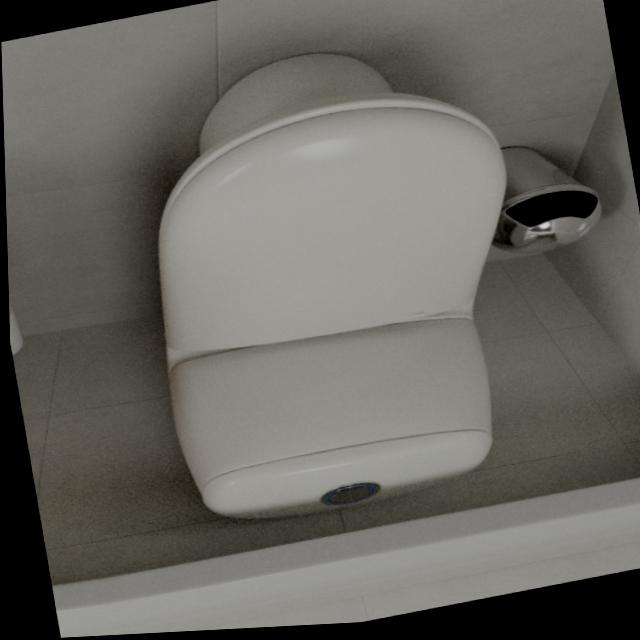toilet: (116, 22, 557, 544)
